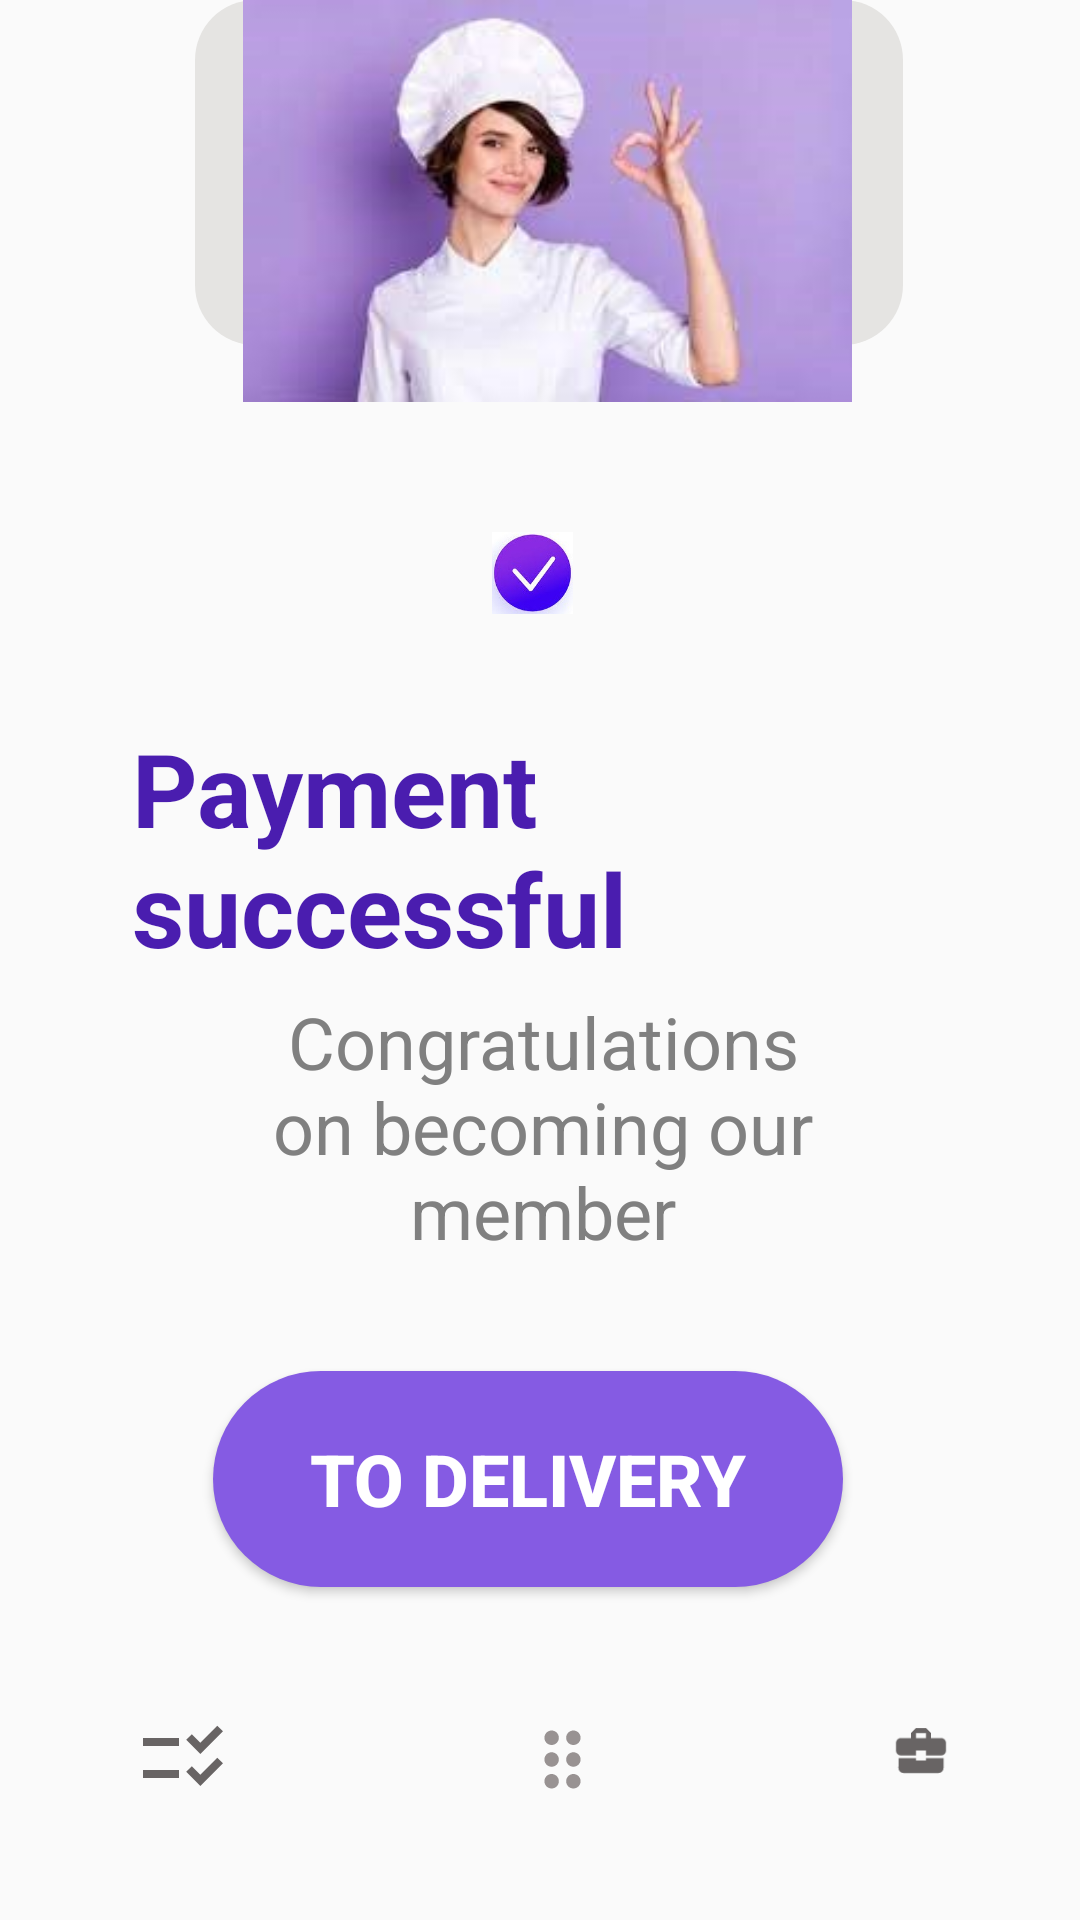

Named icons in this screenshot (1080w x 1920h) and their centers, (x,y):
correct: (531,574)
list: (183,1756)
